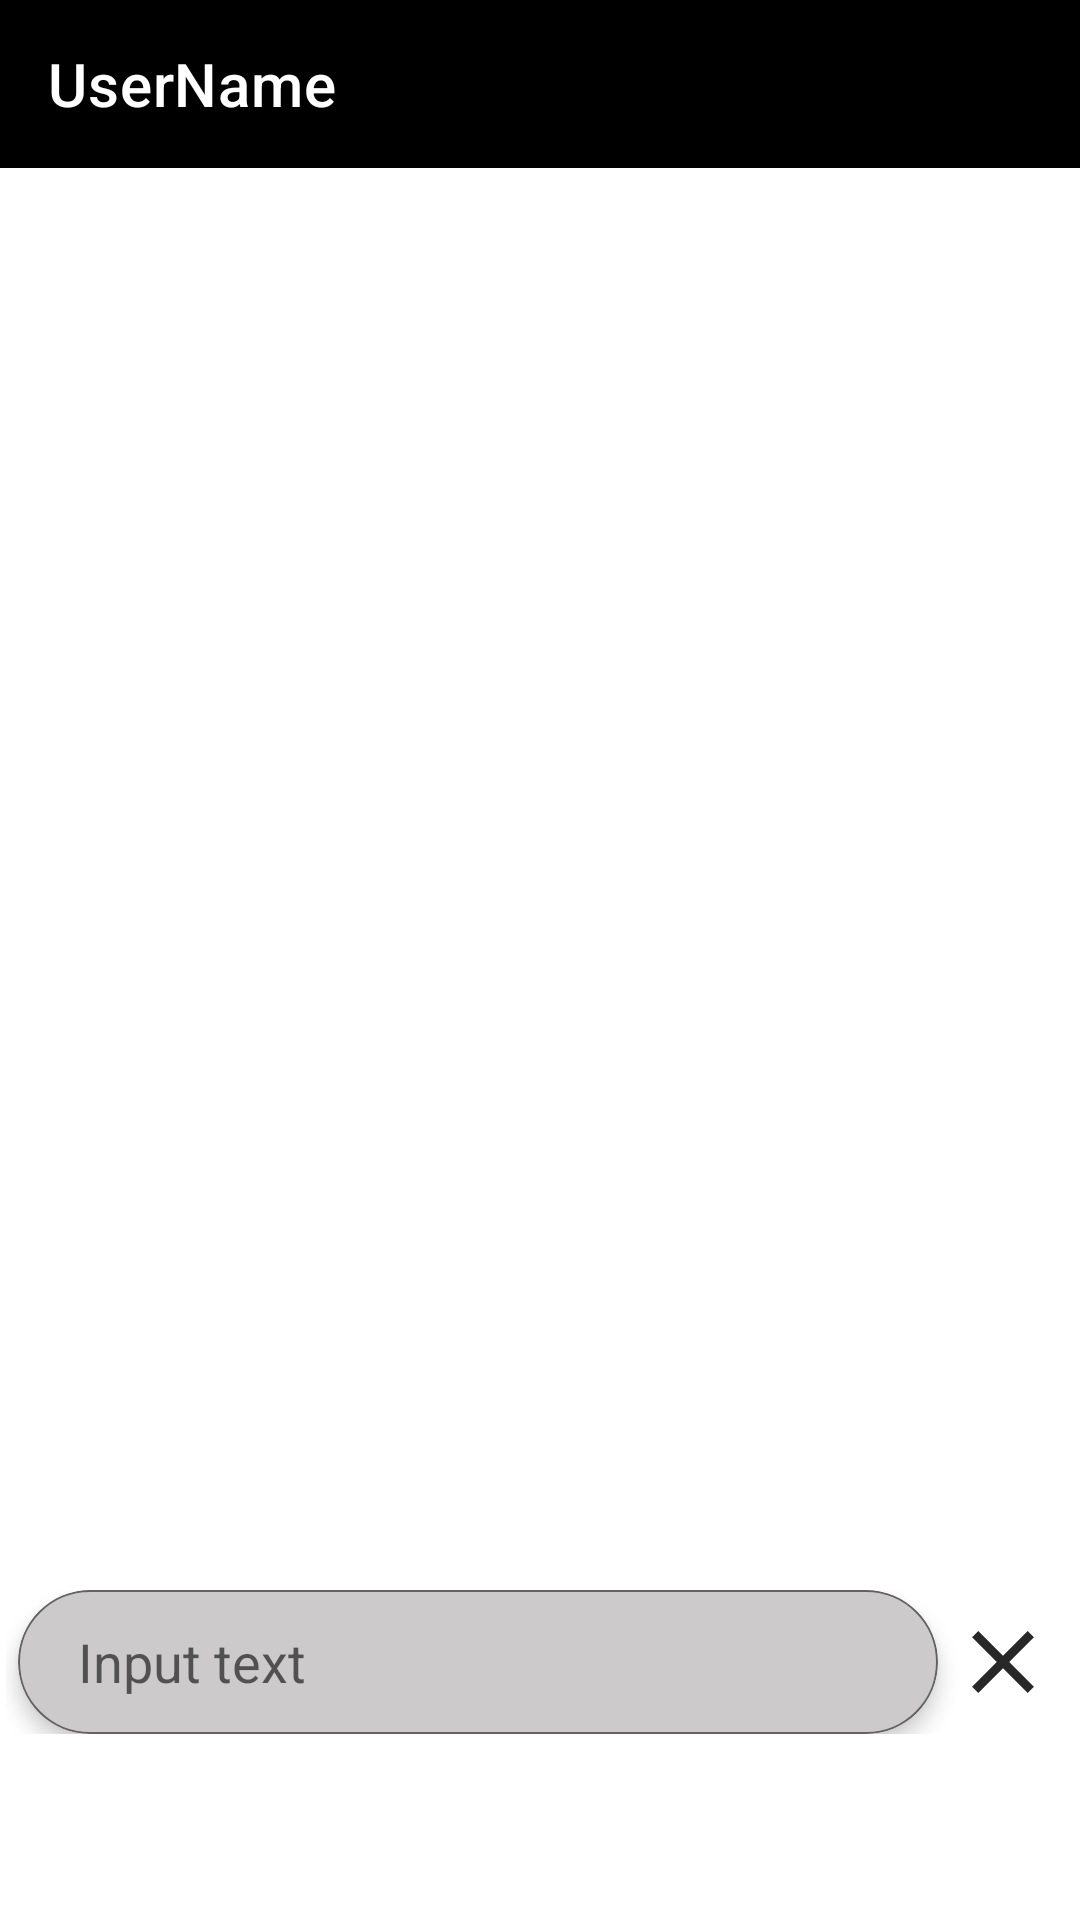

Named icons in this screenshot (1080w x 1920h) and their centers, (x=x, y=y):
close: (x=1003, y=1662)
